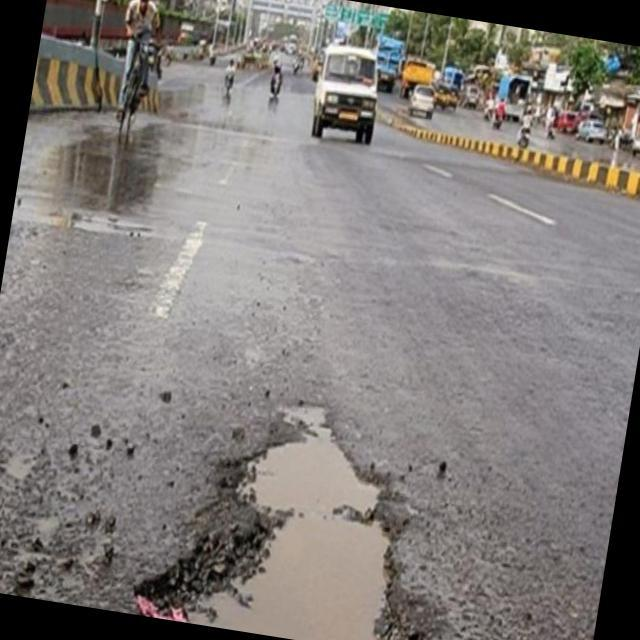Pothole: (134, 405, 389, 640)
